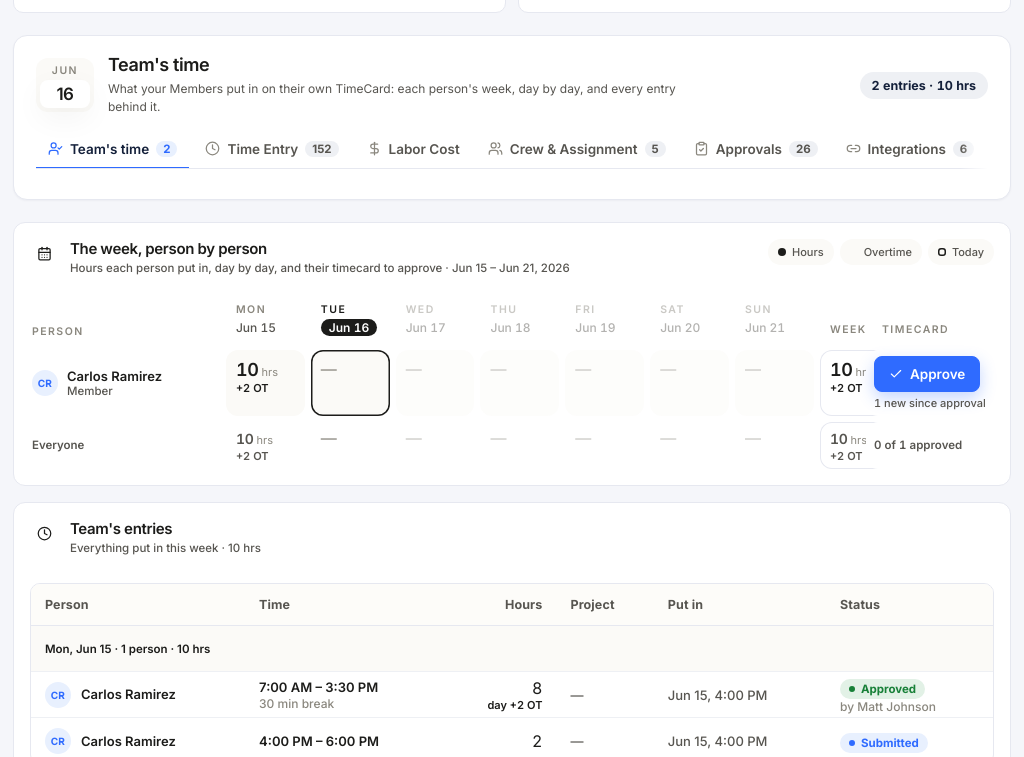
Test: approving a person's timecard › sends only what is still waiting, and says how much of it is new since the approval
(page scrolled)
Expected: the text "1 new since approval" is shown, [874,396,998,410]
What coordinates should you click on to do the following:
click the button with aria-label "Approve Carlos Ramirez's timecard"
I would click on:
 (927, 374)
Its box is [874,356,980,392].
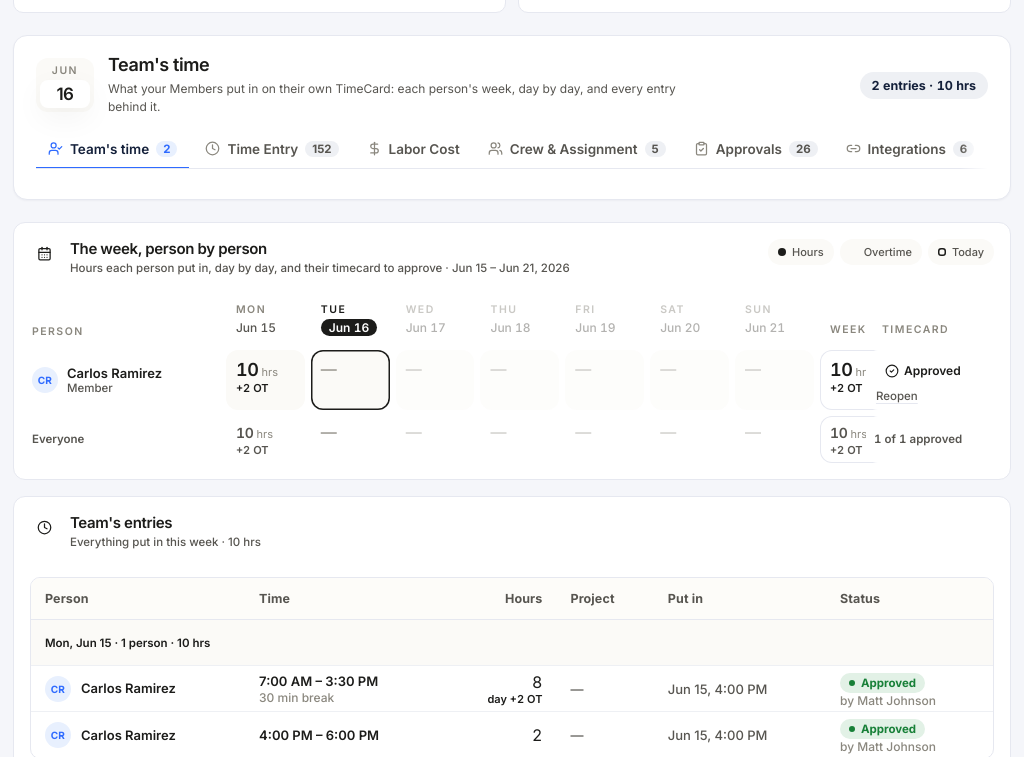
Expected: the text "Approved" is shown, [885,364,961,378]
Expected: the text "new since approval" is gone
